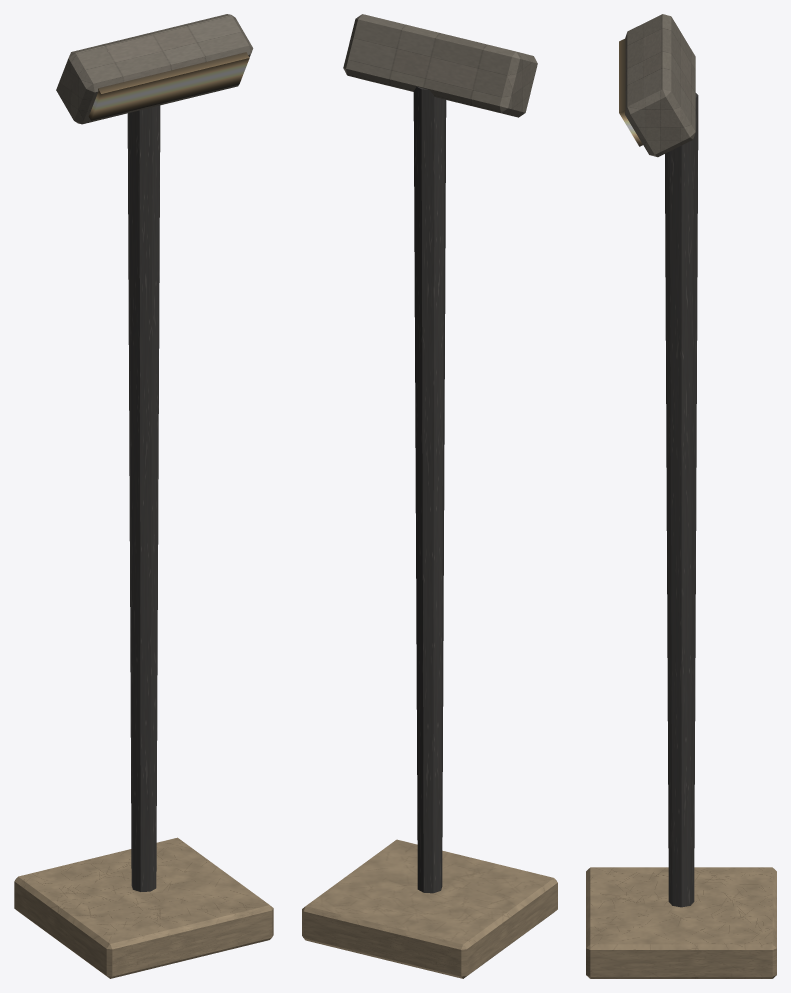
File: prop_floodlight.obj
3 renders of one model, left to right at view 1: azimuth 30°, elevation 25°; view 2: azimuth 150°, elevation 25°; view 3: azimuth 270°, elevation 25°, orthographic.
Visible parts, largest first — view 1: prop_floodlight; view 2: prop_floodlight; view 3: prop_floodlight.
Boxes of the visible parts, x1=… form: prop_floodlight: x1=14, y1=14, x2=273, y2=978; prop_floodlight: x1=302, y1=14, x2=557, y2=978; prop_floodlight: x1=586, y1=14, x2=776, y2=978.
Size of the model in its own units: 0.9 by 4.63 by 0.9.
Materials: 1 (1 with a texture image).
